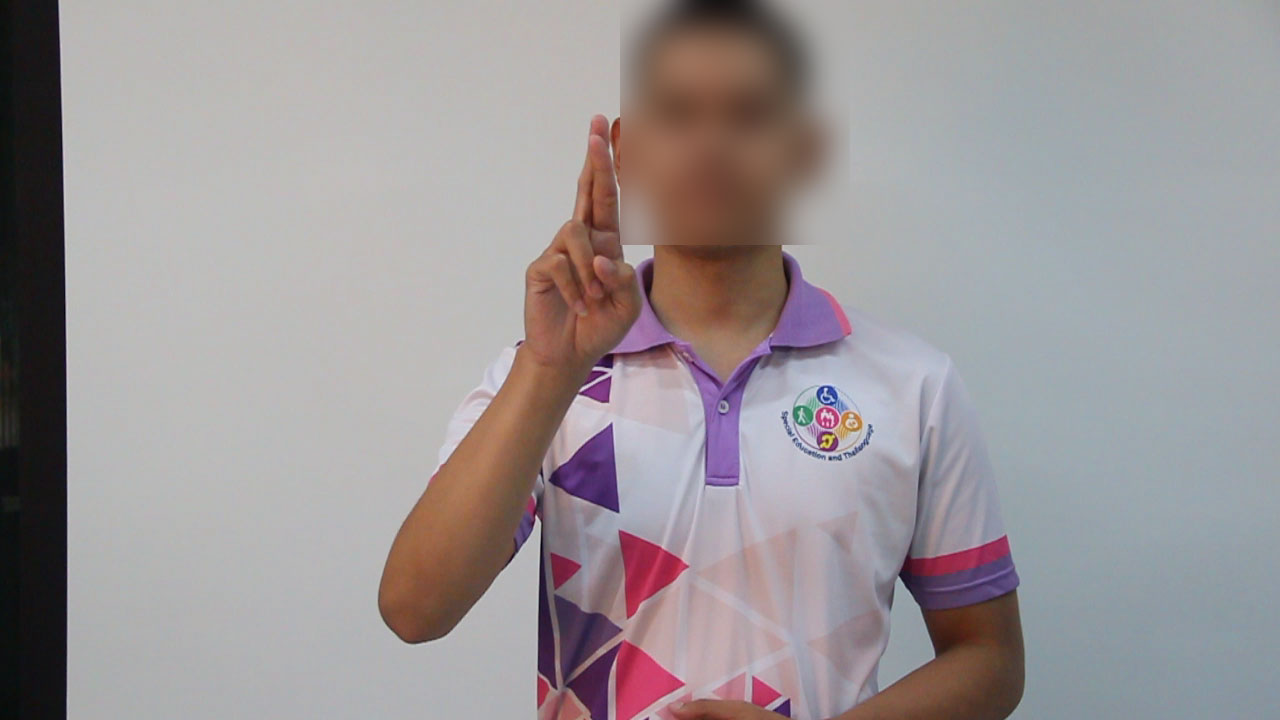rao: (503, 106, 647, 398)
